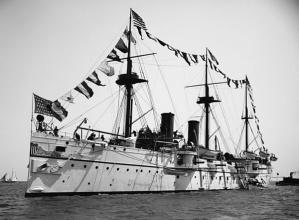fanchuan: (18, 6, 291, 194)
